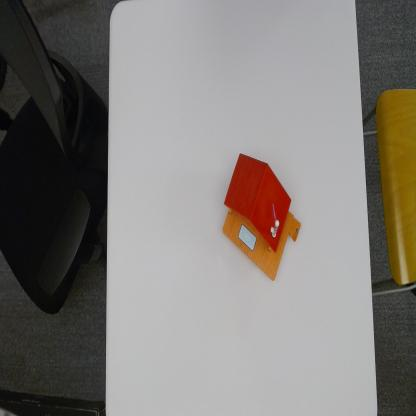House: (220, 151, 302, 283)
